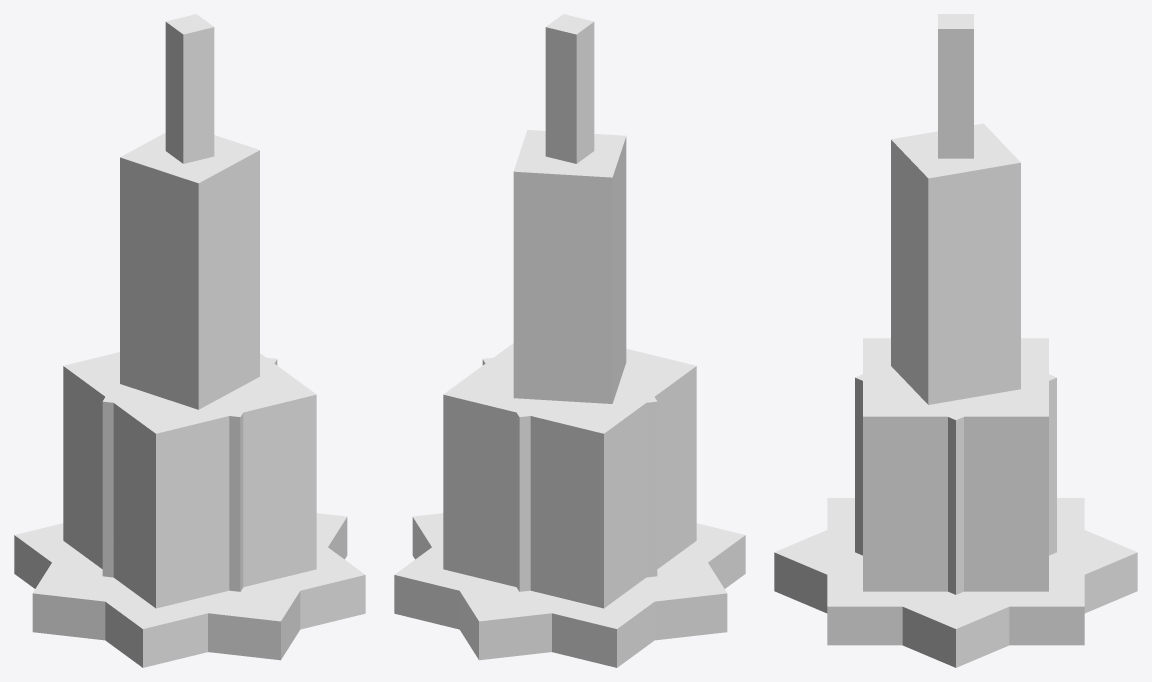
File: nail_energy.gltf
3 renders of one model, left to right at view 1: azimuth 30°, elevation 25°; view 2: azimuth 150°, elevation 25°; view 3: azimuth 270°, elevation 25°, orthographic.
Visible parts, largest first — view 1: seg1a, seg2, collar_a, collar_b, tip, seg1b; view 2: seg1a, seg2, collar_a, collar_b, seg1b, tip; view 3: seg1a, seg2, collar_b, collar_a, seg1b, tip.
Boxes of the visible parts, x1=… form: seg1a: x1=63, y1=352, x2=316, y2=608; seg2: x1=120, y1=133, x2=259, y2=409; collar_a: x1=14, y1=523, x2=365, y2=667; collar_b: x1=32, y1=513, x2=347, y2=660; tip: x1=165, y1=14, x2=214, y2=163; seg1b: x1=102, y1=357, x2=277, y2=591; seg1a: x1=443, y1=343, x2=696, y2=608; seg2: x1=513, y1=130, x2=626, y2=403; collar_a: x1=394, y1=523, x2=745, y2=667; collar_b: x1=412, y1=513, x2=727, y2=660; seg1b: x1=482, y1=353, x2=657, y2=591; tip: x1=545, y1=14, x2=594, y2=163; seg1a: x1=863, y1=338, x2=1048, y2=591; seg2: x1=891, y1=123, x2=1020, y2=404; collar_b: x1=774, y1=518, x2=1137, y2=667; collar_a: x1=827, y1=498, x2=1084, y2=645; seg1b: x1=855, y1=364, x2=1056, y2=594; tip: x1=938, y1=14, x2=973, y2=158.
Size of the model in its own units: 0.3182 by 0.55 by 0.3182.
1 material, 1 textured.
